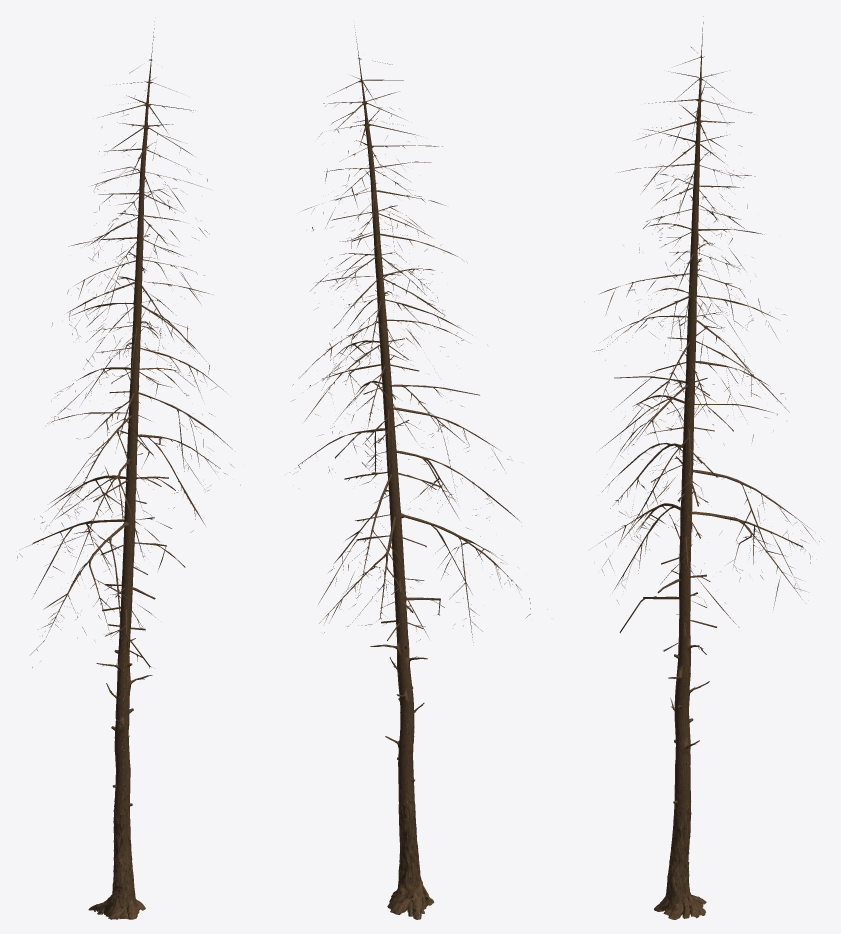
The model's file is middle-earth-tree.glb.
3 renders of one model, left to right at view 1: azimuth 30°, elevation 25°; view 2: azimuth 150°, elevation 25°; view 3: azimuth 270°, elevation 25°, orthographic. The views are drawn at different scales.
Bounding box in the file's own units: 8.49 × 29.36 × 7.02.
Materials: 1 (1 with a texture image).
